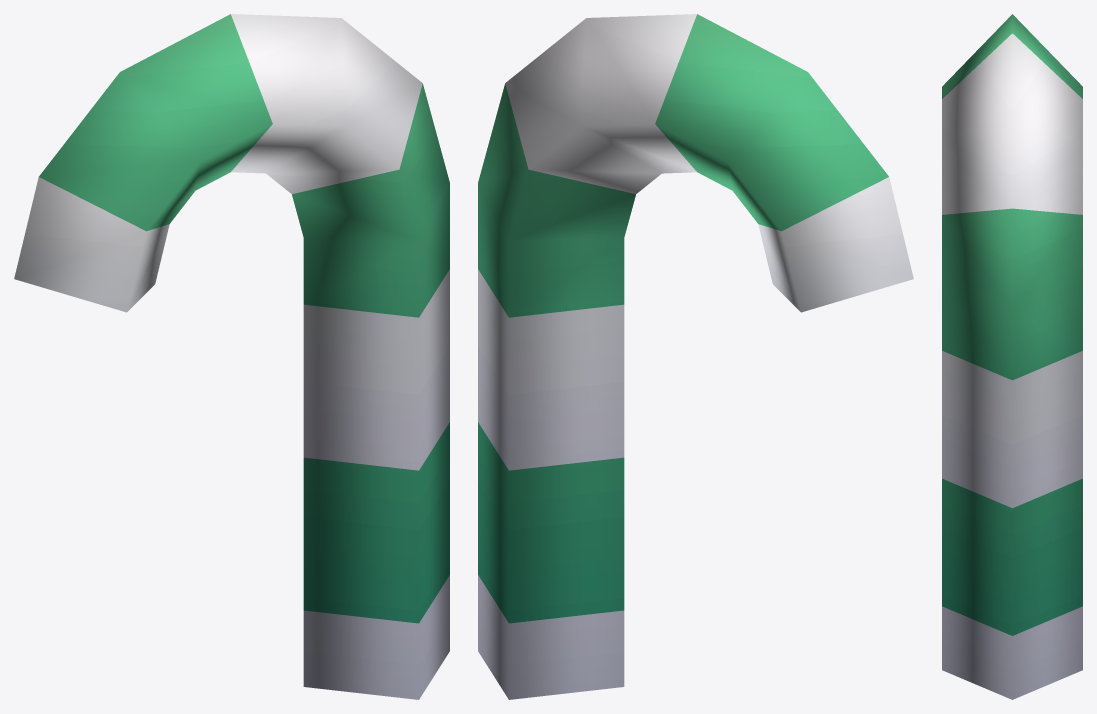
File: k-holiday-candy-cane-green.glb
3 views of the same model, side by side, from view 1: azimuth 30°, elevation 25°; view 2: azimuth 150°, elevation 25°; view 3: azimuth 270°, elevation 25° (orthographic). The views are drawn at different scales.
Visible parts, largest first — view 1: candy-cane-green; view 2: candy-cane-green; view 3: candy-cane-green.
Boxes of the visible parts, <box> form: candy-cane-green: <box>14,14,449,699</box>; candy-cane-green: <box>478,14,913,699</box>; candy-cane-green: <box>942,14,1082,699</box>.
Bounding box in the file's own units: 0.2983 × 0.4518 × 0.1.
Materials: 1 (1 with a texture image).
